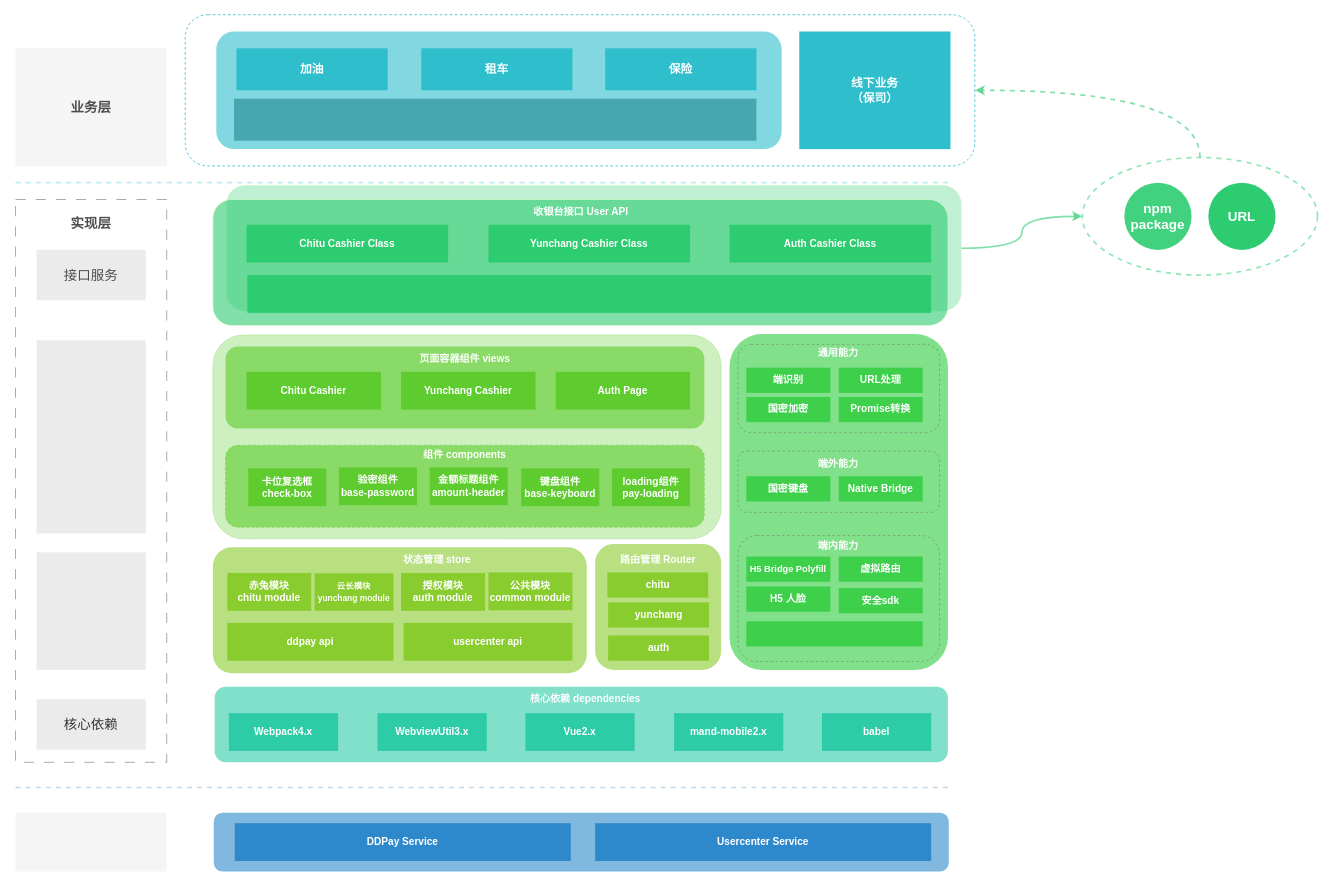
This 1332x886 diagram has some shape labels left out. Here are the shapes that lost their labels. From the top down, the centre of each, then its label:
At point 495,119: "solar 聚合收银台".
At point 589,293: "YunchangBase(初始化 vue 实例、store实例、Request Adapter，并注册onOpen、onError等方法)".
At point 90,436: "视图交互".
At point 90,610: "数据逻辑".
At point 834,633: "PostMessage通信".
At point 90,841: "服务层".
